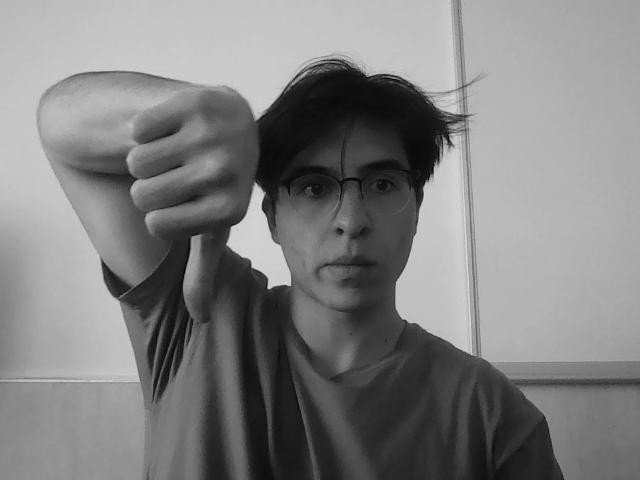bad: (126, 82, 274, 332)
